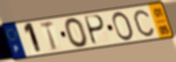1: (23, 21, 44, 55)
C: (132, 9, 156, 38)
O: (63, 17, 89, 49), (112, 11, 136, 43)
P: (84, 14, 106, 47)
T: (38, 20, 59, 52)
